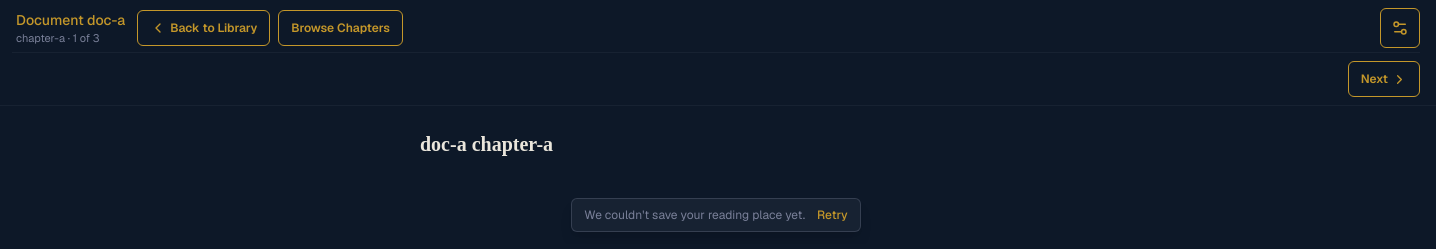
Test: DocumentReader request ordering › retains a failed progress save and lets the reader retry it
Expected: the text "We couldn't save your reading place yet." is shown, x1=584 y1=207 x2=805 y2=223
Click the button "Retry".
click(832, 215)  # box x1=817 y1=207 x2=848 y2=223
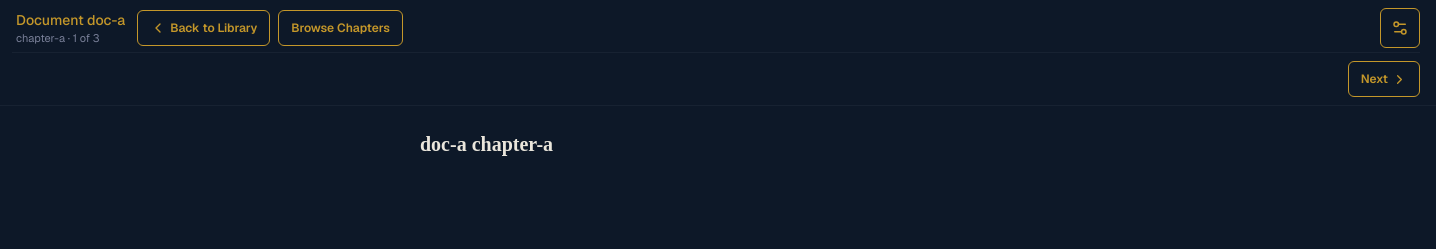
Now the text "We couldn't save your reading place yet." is gone
